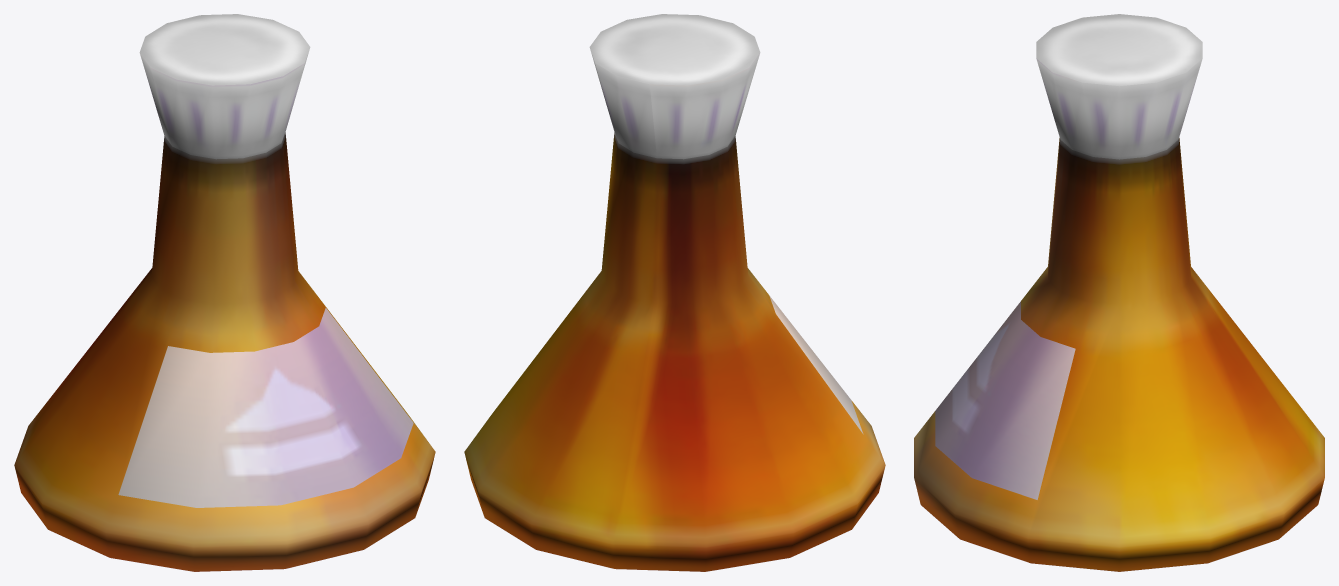
The model's file is Status Up.obj.
3 views of the same model, side by side, from view 1: azimuth 30°, elevation 25°; view 2: azimuth 150°, elevation 25°; view 3: azimuth 270°, elevation 25° (orthographic).
Visible parts, largest first — view 1: sankaku; view 2: sankaku; view 3: sankaku.
Boxes of the visible parts, <box> form: sankaku: <box>14,14,435,571</box>; sankaku: <box>464,14,885,571</box>; sankaku: <box>914,14,1324,571</box>.
Bounding box in the file's own units: 1.5 × 1.71 × 1.46.
1 material, 1 textured.
